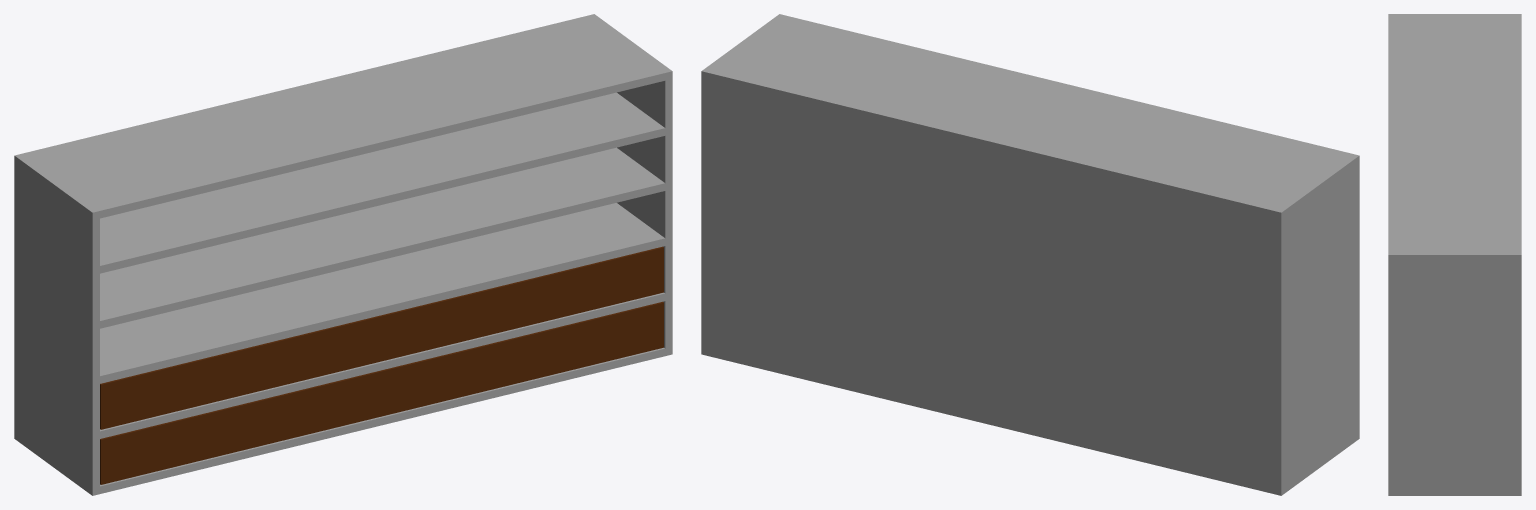
The model's file is meuble_690180dfc6c60.glb.
3 renders of one model, left to right at view 1: azimuth 30°, elevation 25°; view 2: azimuth 150°, elevation 25°; view 3: azimuth 270°, elevation 25°, orthographic. The views are drawn at different scales.
Visible parts, largest first — view 1: world; view 2: world; view 3: world.
Boxes of the visible parts, box(x1,y1,x2,y2) form: world: box(14, 14, 672, 495); world: box(701, 14, 1359, 495); world: box(1388, 14, 1521, 495).
Bounding box in the file's own units: 1.5 × 0.7 × 0.35.
1 material, 1 textured.
